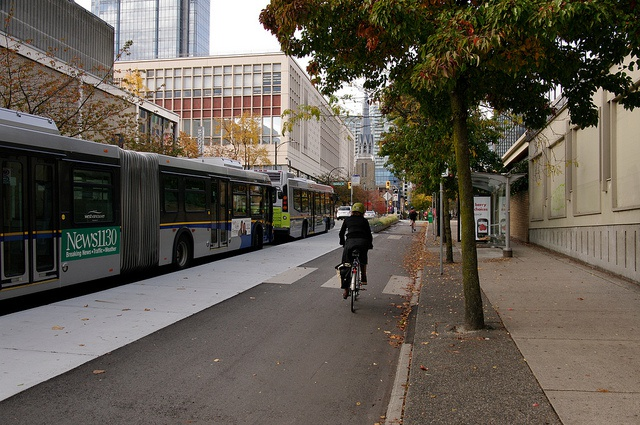non-vehicle: (334, 248, 360, 312), (407, 216, 417, 233)
